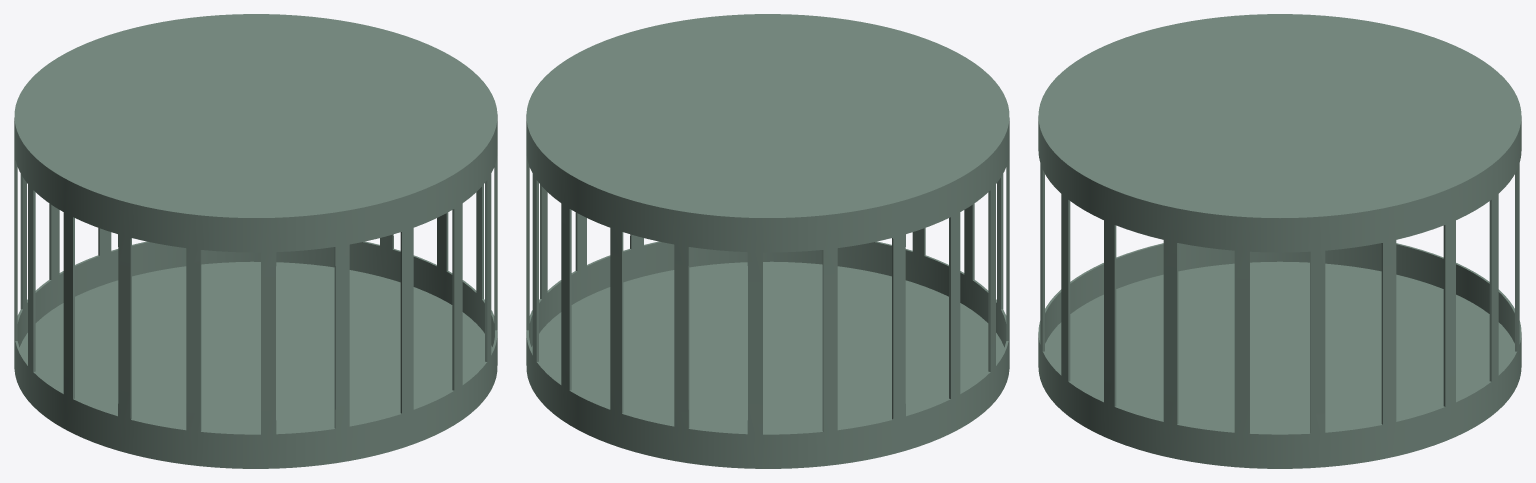
File: viewport.gltf
3 renders of one model, left to right at view 1: azimuth 30°, elevation 25°; view 2: azimuth 150°, elevation 25°; view 3: azimuth 270°, elevation 25°, orthographic.
Parts seen in each view (by area): view 1: telescopeViewport; view 2: telescopeViewport; view 3: telescopeViewport.
Boxes of the visible parts, bbox=[...] form: telescopeViewport: bbox=[14, 14, 497, 468]; telescopeViewport: bbox=[526, 14, 1009, 468]; telescopeViewport: bbox=[1038, 14, 1521, 468].
Size of the model in its own units: 10.82 by 6.2 by 10.82.
